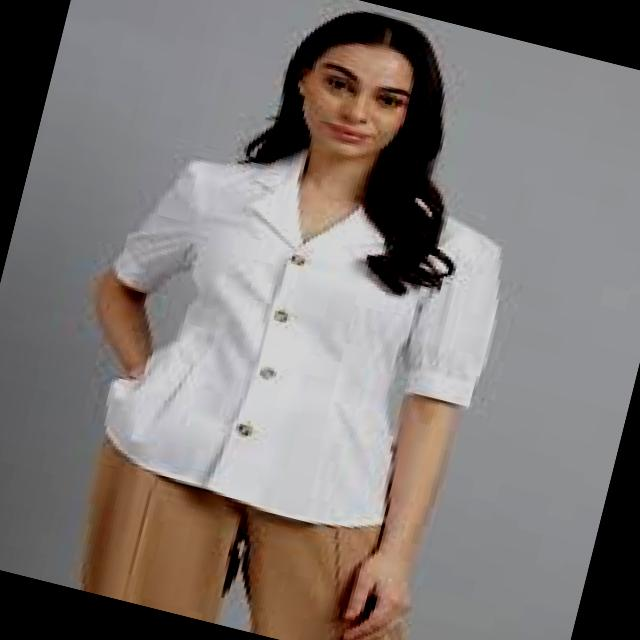face: (296, 43, 413, 160)
lower-wear: (80, 437, 380, 639)
top-wear: (104, 147, 501, 526)
